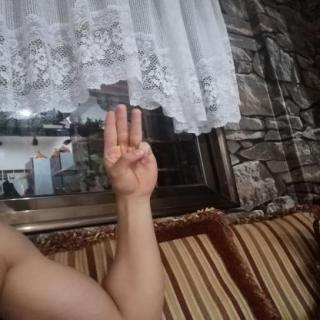THA: (91, 98, 167, 204)
